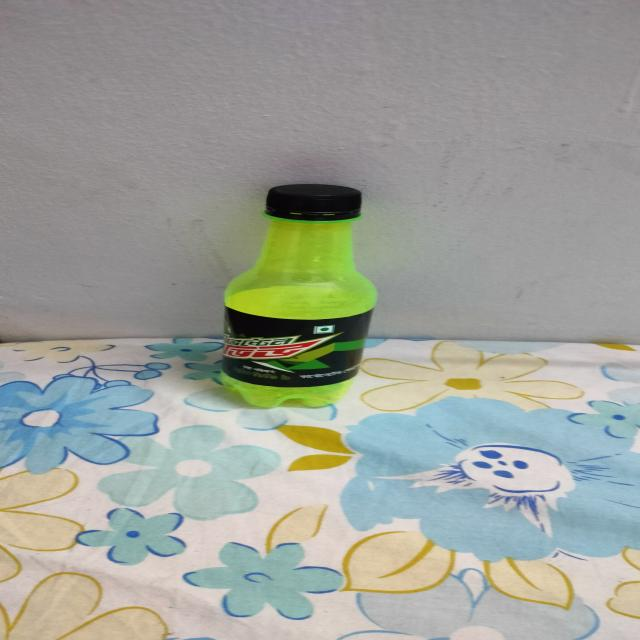Bottle: (227, 183, 381, 410)
